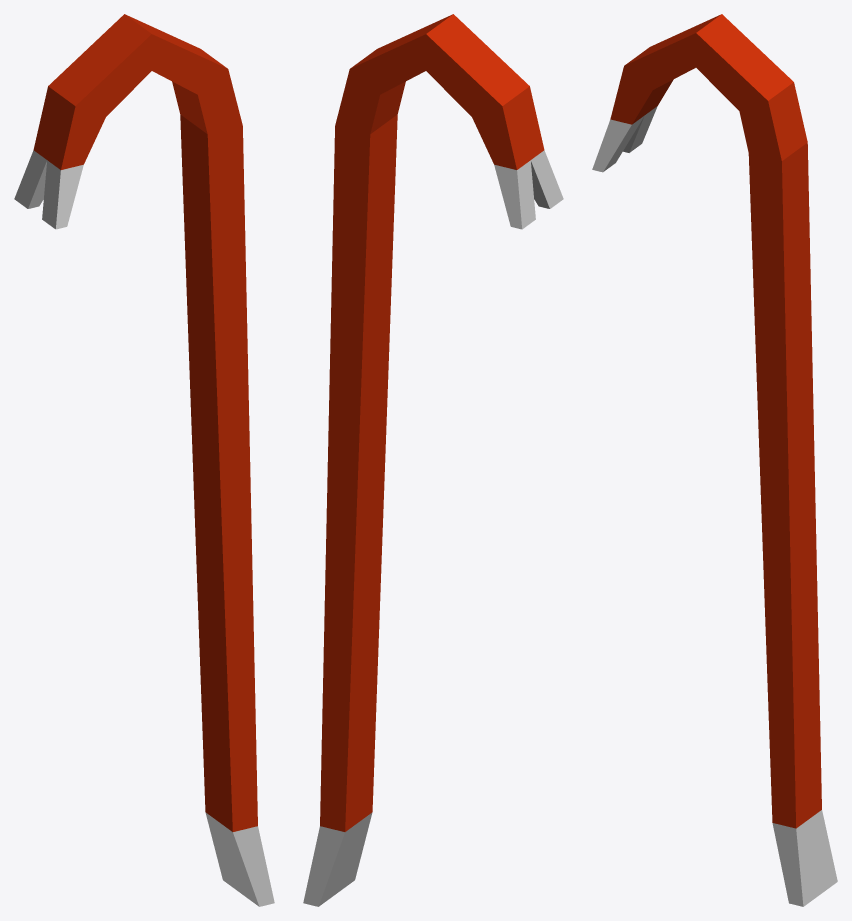
The model's file is Crowbar.fbx.
3 renders of one model, left to right at view 1: azimuth 30°, elevation 25°; view 2: azimuth 150°, elevation 25°; view 3: azimuth 330°, elevation 25°, orthographic. The views are drawn at different scales.
Parts seen in each view (by area): view 1: Crowbar; view 2: Crowbar; view 3: Crowbar.
Part boxes in pixels (left/top/right/bottom): Crowbar: left=14, top=14, right=274, bottom=906; Crowbar: left=303, top=14, right=563, bottom=906; Crowbar: left=592, top=14, right=837, bottom=906.
Bounding box in the file's own units: 0.1812 × 0.699 × 0.0589.
